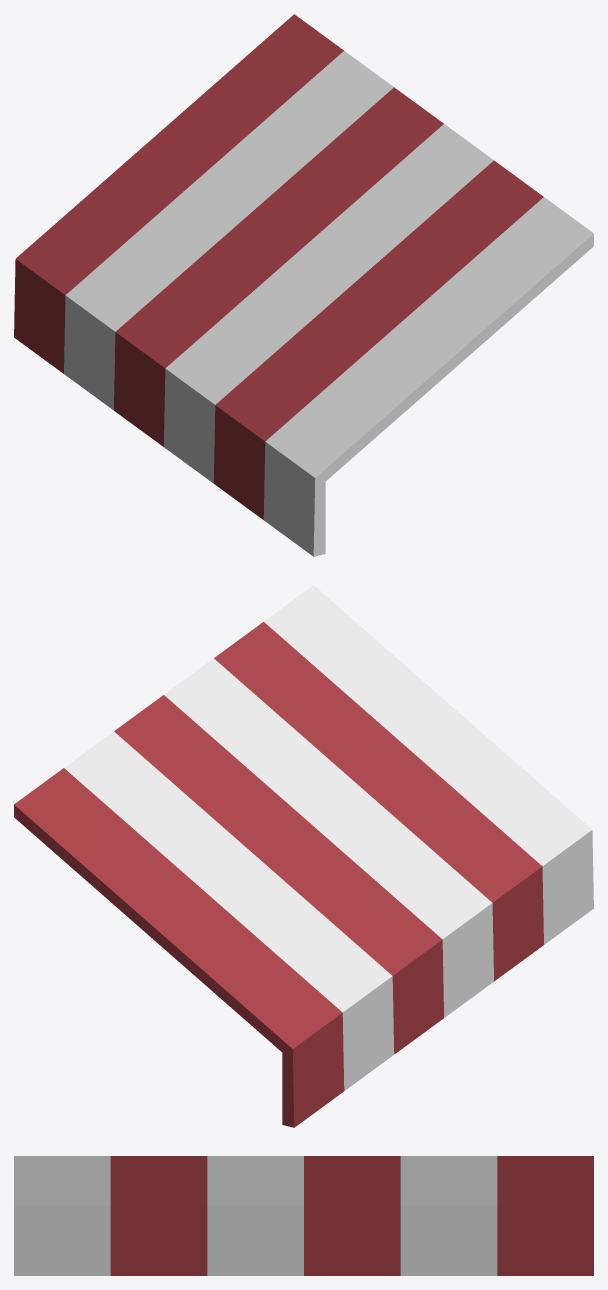
The model's file is Awning_2_J.fbx.
3 views of the same model, one above another, from view 1: azimuth 30°, elevation 25°; view 2: azimuth 150°, elevation 25°; view 3: azimuth 270°, elevation 25° (orthographic). The views are drawn at different scales.
Visible parts, largest first — view 1: Awning_2_J; view 2: Awning_2_J; view 3: Awning_2_J.
Boxes of the visible parts, left/top/right/bottom form: Awning_2_J: left=14, top=14, right=593, bottom=556; Awning_2_J: left=14, top=585, right=593, bottom=1127; Awning_2_J: left=14, top=1156, right=593, bottom=1275.
Bounding box in the file's own units: 111 × 96.45 × 205.
